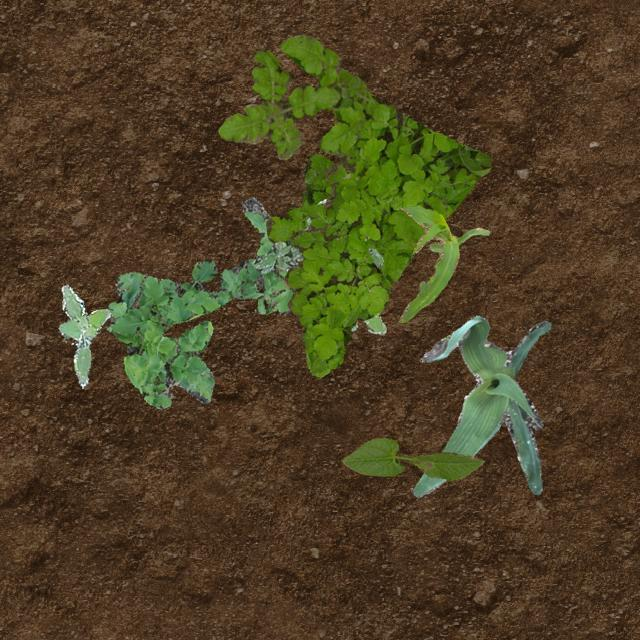crop: (412, 314, 550, 496), (398, 204, 488, 322), (340, 438, 482, 480), (306, 198, 326, 224)
weed: (282, 94, 490, 376), (106, 195, 292, 408), (264, 152, 473, 282), (218, 34, 378, 158), (58, 284, 110, 386), (250, 238, 382, 272), (350, 312, 386, 334)
